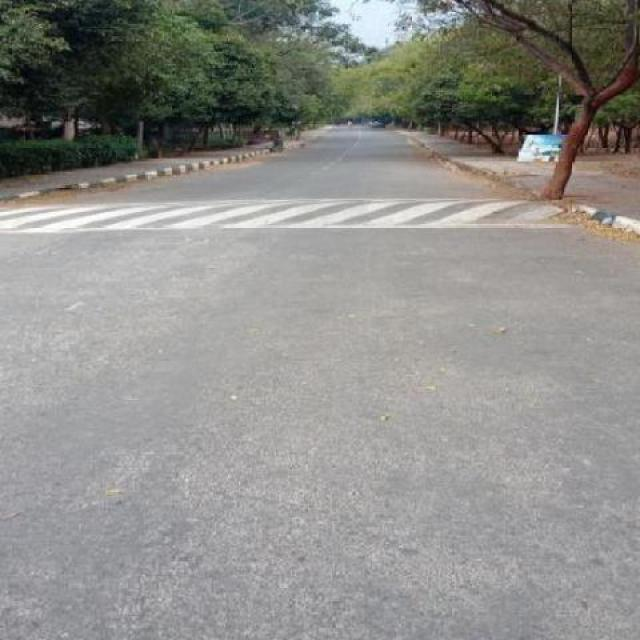Speed Bump: (2, 197, 586, 231)
